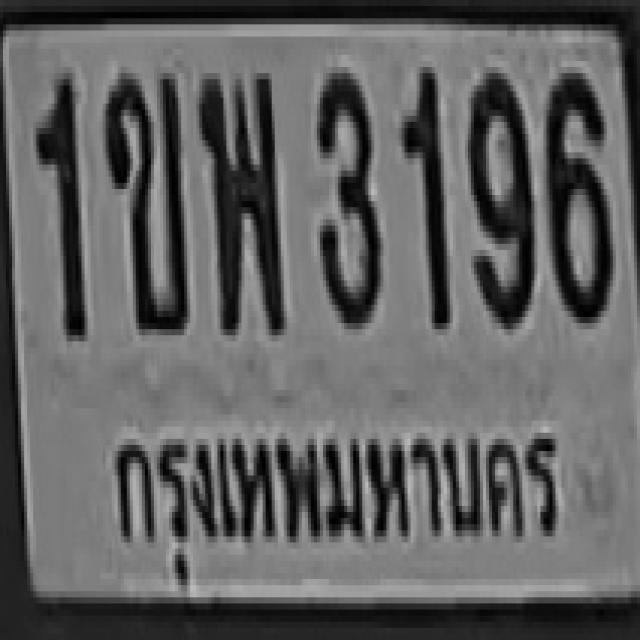1: (32, 67, 80, 335), (398, 61, 444, 323)
11KhorKhai: (103, 67, 184, 329)
3: (314, 67, 377, 323)
39PhorPan: (196, 67, 281, 329)
6: (543, 67, 610, 317)
9: (466, 67, 530, 323)
Bangkok: (105, 389, 562, 590)
